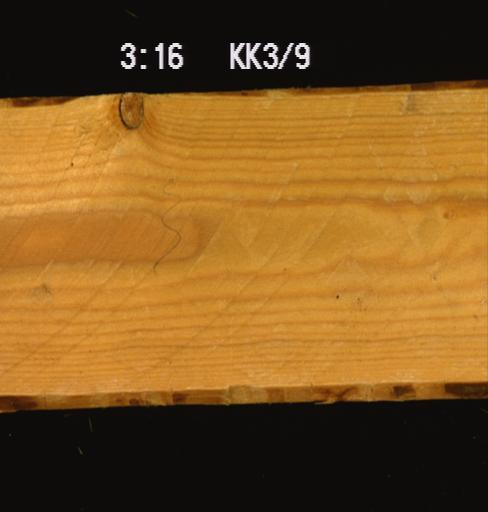edge_knot: (115, 92, 144, 130)
wave: (0, 380, 483, 410), (0, 91, 103, 116)
